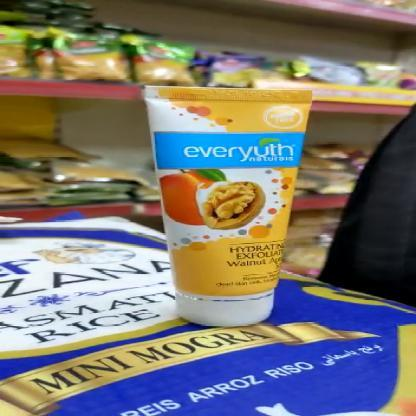EY HYD-EXF WALNT APR SCRUB AYR100G: (141, 90, 308, 327)
